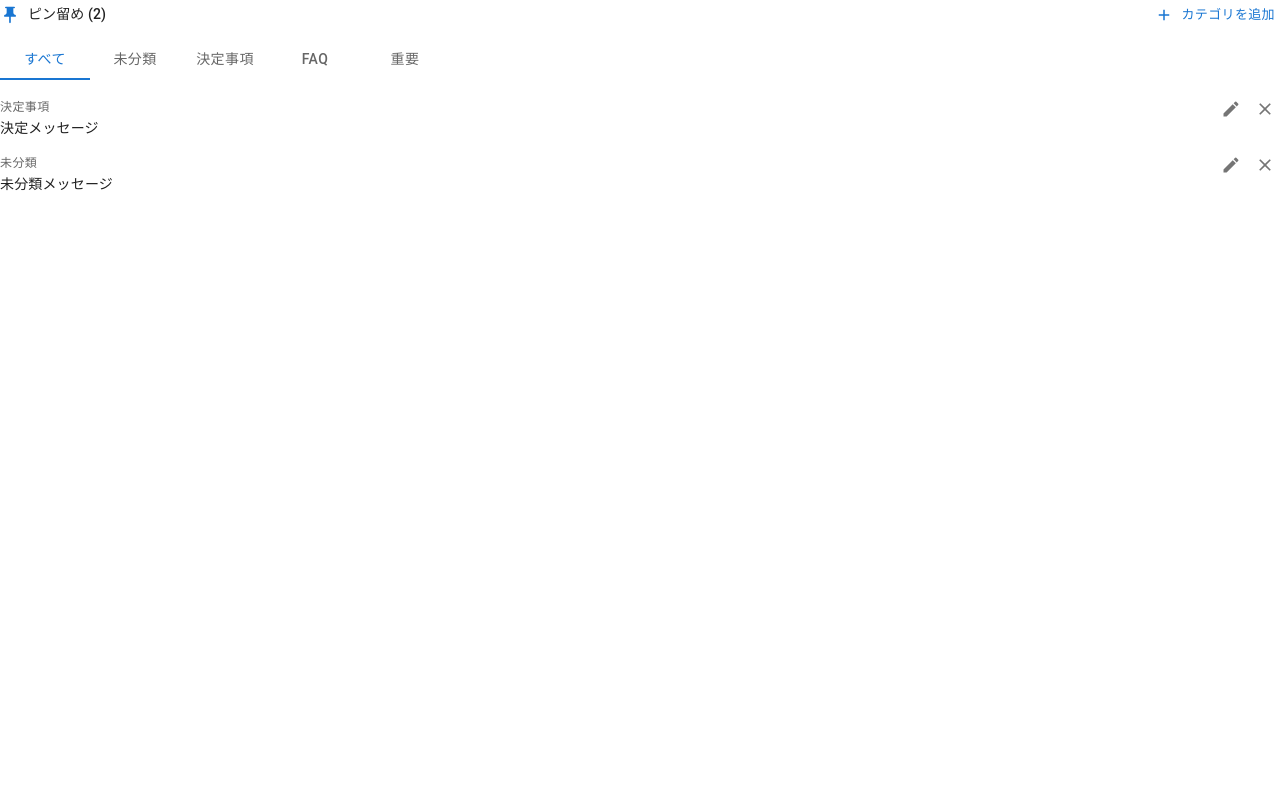
PinnedMessages › 任意カテゴリ追加 › 新しいカテゴリを追加するとタブとカテゴリ選択肢へ反映する
Click the button "カテゴリを追加". click: click(1216, 15)
box: [1152,0,1279,31]
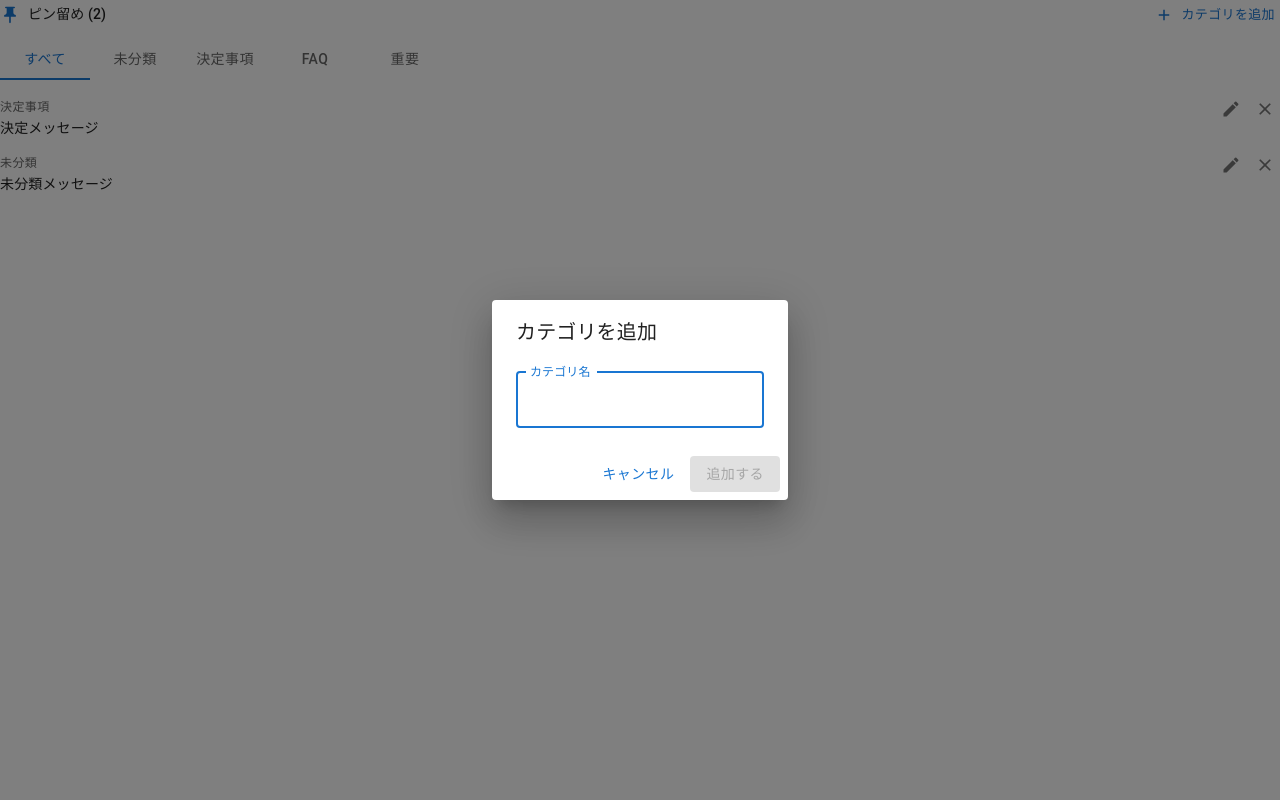
Type "新規" into the field labelled "カテゴリ名". click: (640, 400)
box: [516,372,764,428]
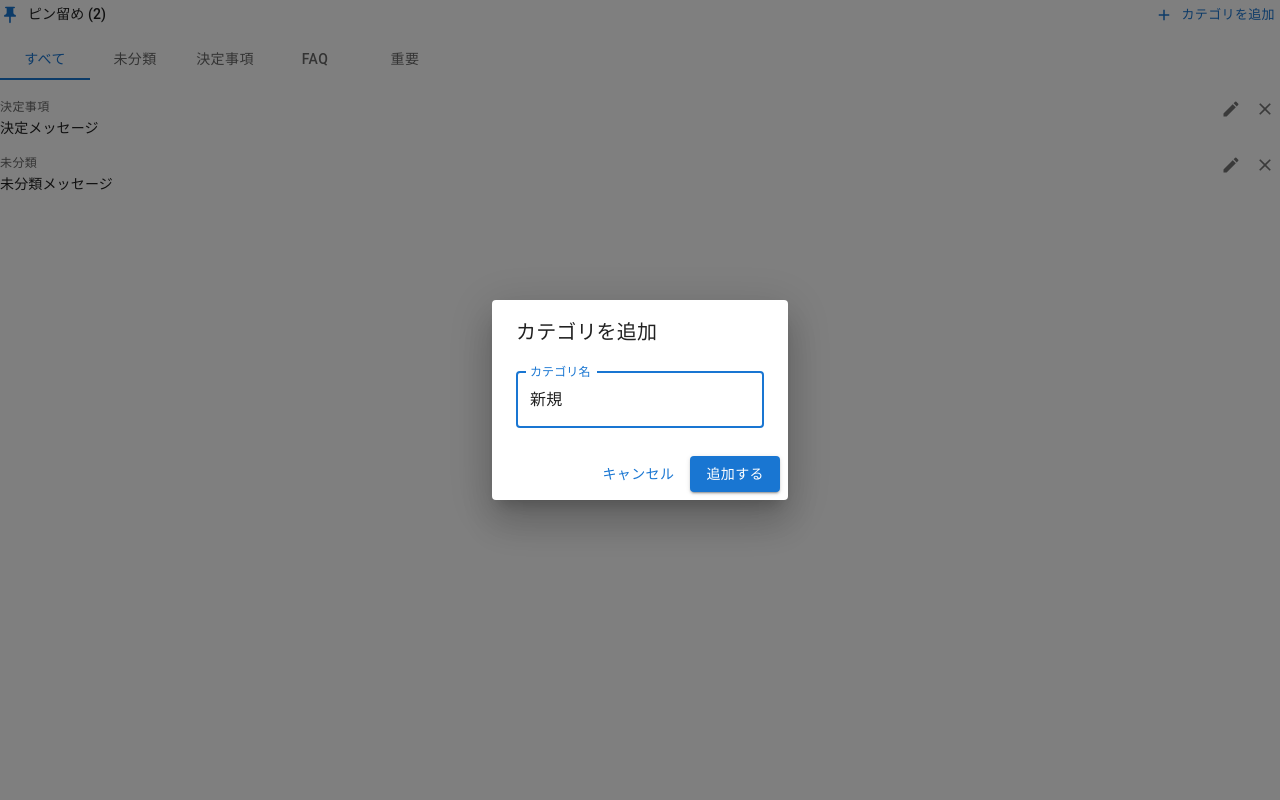
Click the button "追加する". click: click(735, 474)
box: [690,456,780,492]
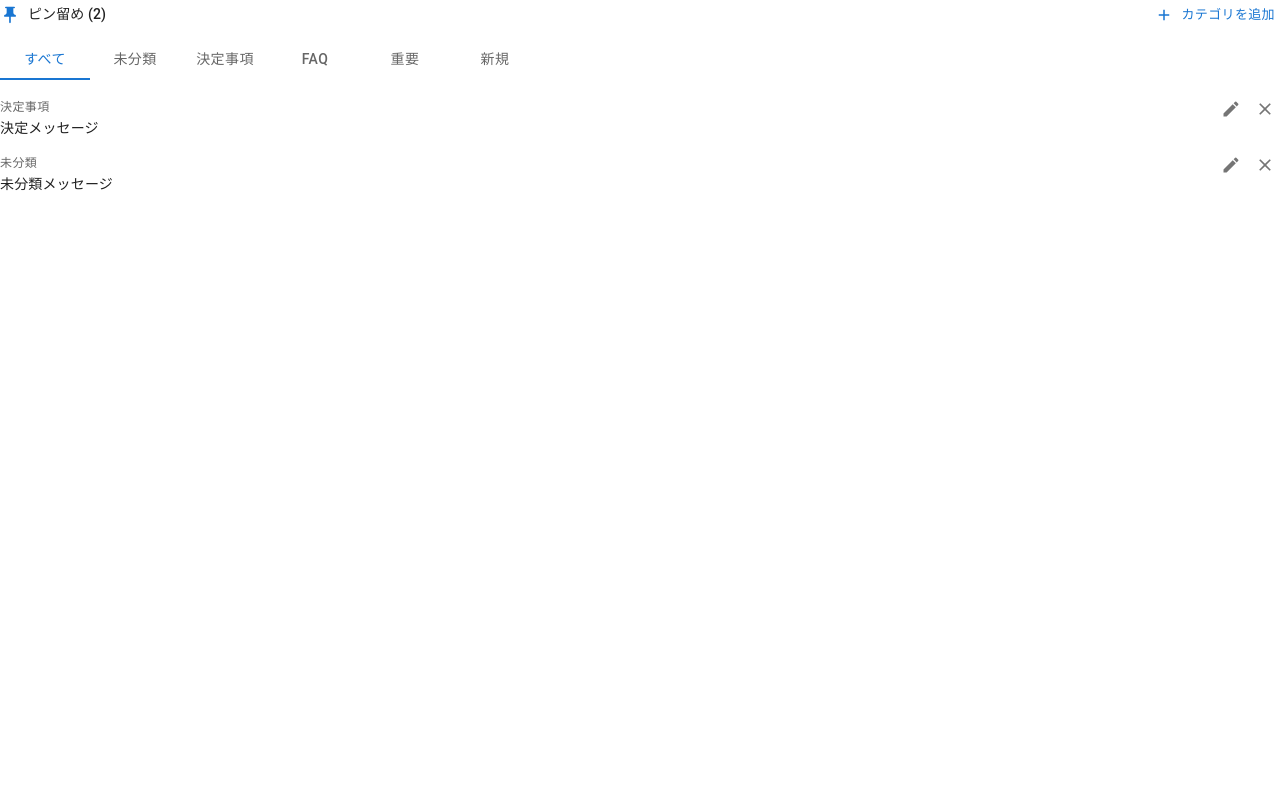
Result: the tab "新規" is shown at [450,39,540,80]
